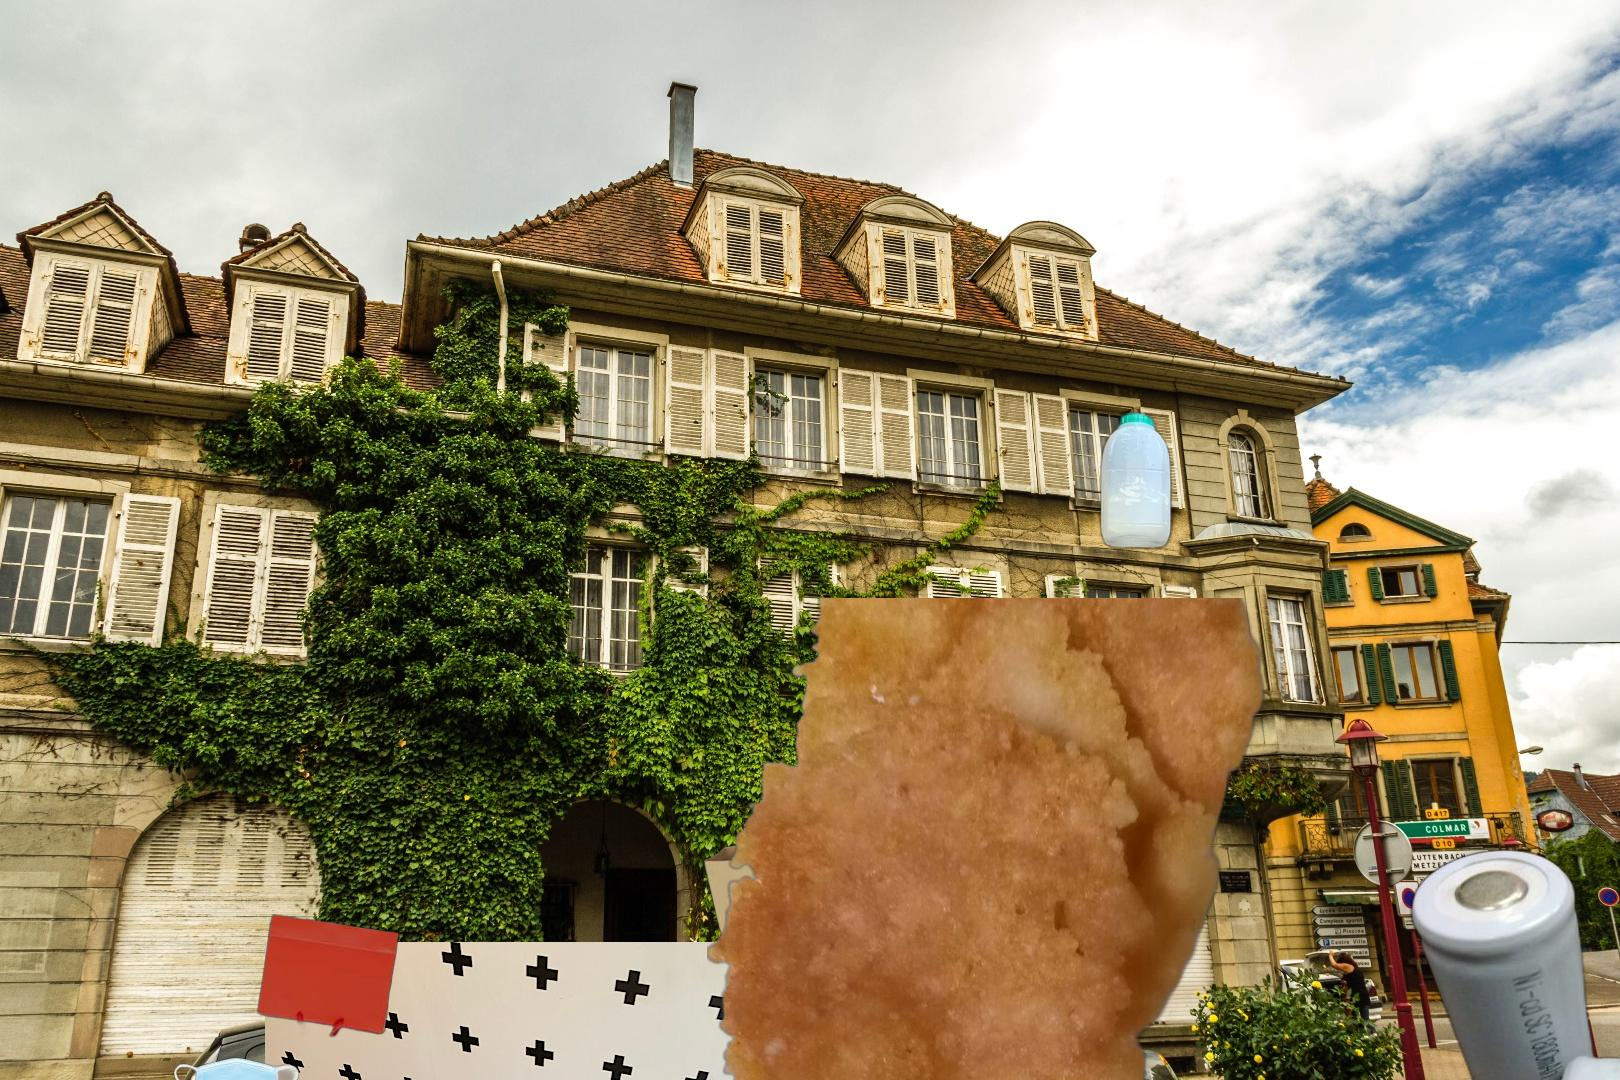battery: (1405, 817, 1620, 1080)
biological: (708, 598, 1367, 1080)
paper-bag: (702, 840, 920, 1080), (256, 912, 403, 1039)
plastic-bottles: (265, 943, 777, 1080), (1096, 406, 1176, 554)
shoes: (641, 950, 865, 1080)
trash: (171, 1055, 303, 1080)
